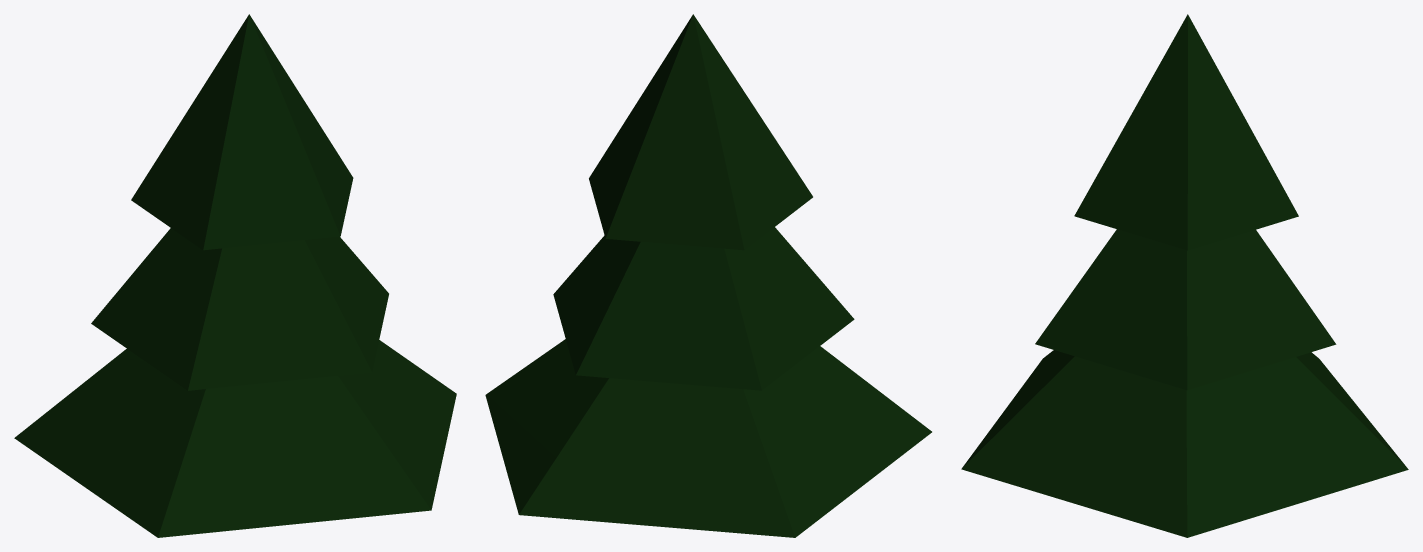
File: Tree7.FBX
3 renders of one model, left to right at view 1: azimuth 30°, elevation 25°; view 2: azimuth 150°, elevation 25°; view 3: azimuth 270°, elevation 25°, orthographic.
Parts seen in each view (by area): view 1: Tree7_a; view 2: Tree7_a; view 3: Tree7_a.
Boxes of the visible parts, left/top/right/bottom form: Tree7_a: left=14, top=14, right=456, bottom=537; Tree7_a: left=485, top=14, right=931, bottom=537; Tree7_a: left=961, top=14, right=1408, bottom=537.
Bounding box in the file's own units: 11117 × 12914 × 11634.
